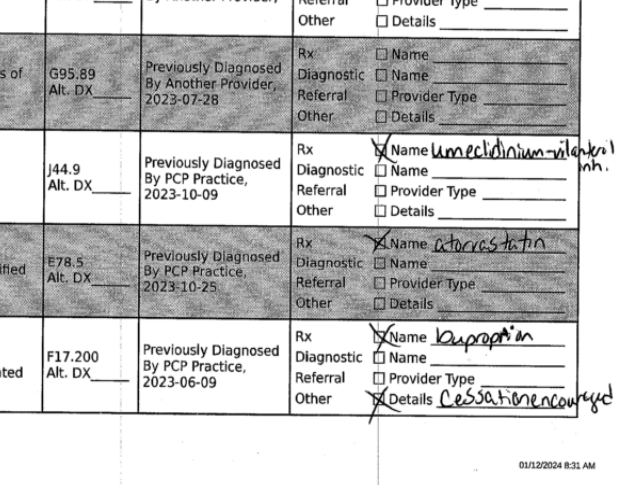checked: (359, 384, 401, 423), (364, 322, 391, 350), (361, 228, 391, 252), (371, 133, 391, 164)
